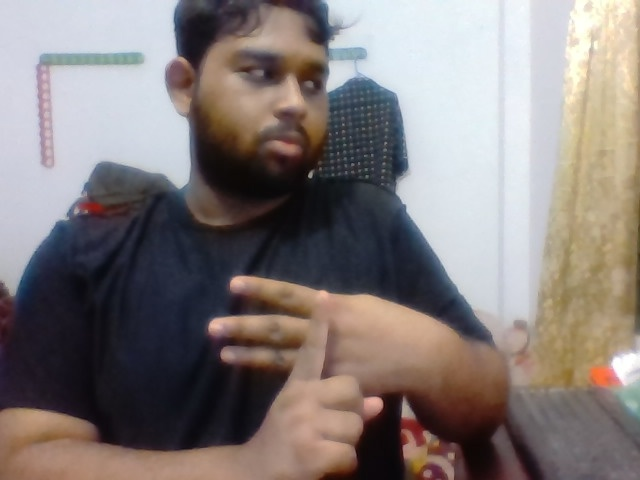E: (183, 245, 400, 478)
